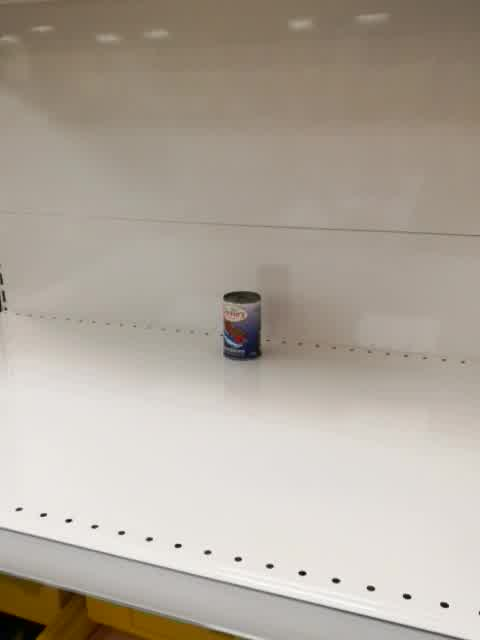sardine: (222, 289, 262, 363)
